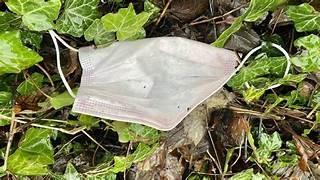Mask: (73, 37, 237, 129)
